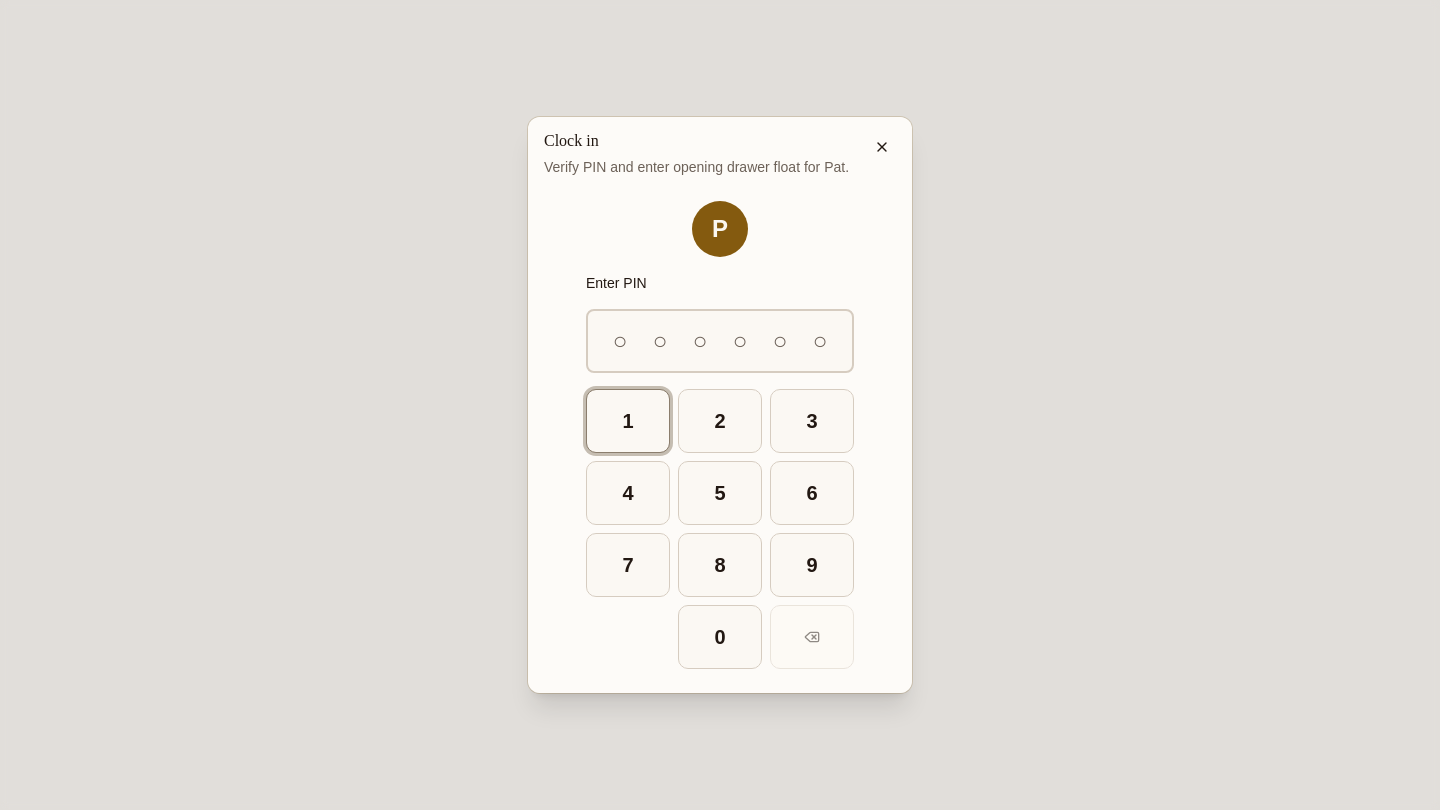
Test: ClockInModal › shows PIN error on wrong PIN
Step 1. Click the button "9" → (812, 565), box [770,533,854,597]
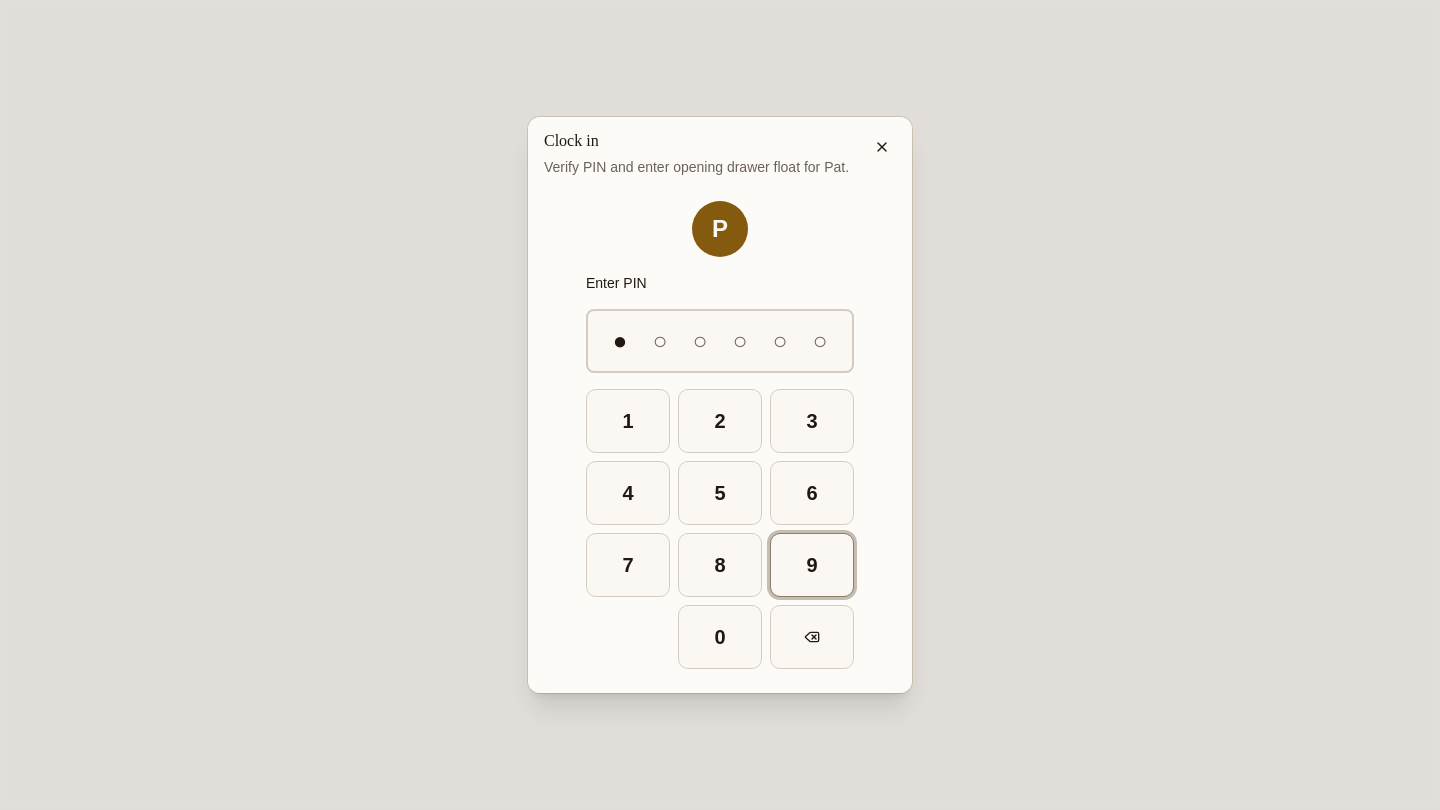
Step 2. Click the button "9" → (812, 565), box [770,533,854,597]
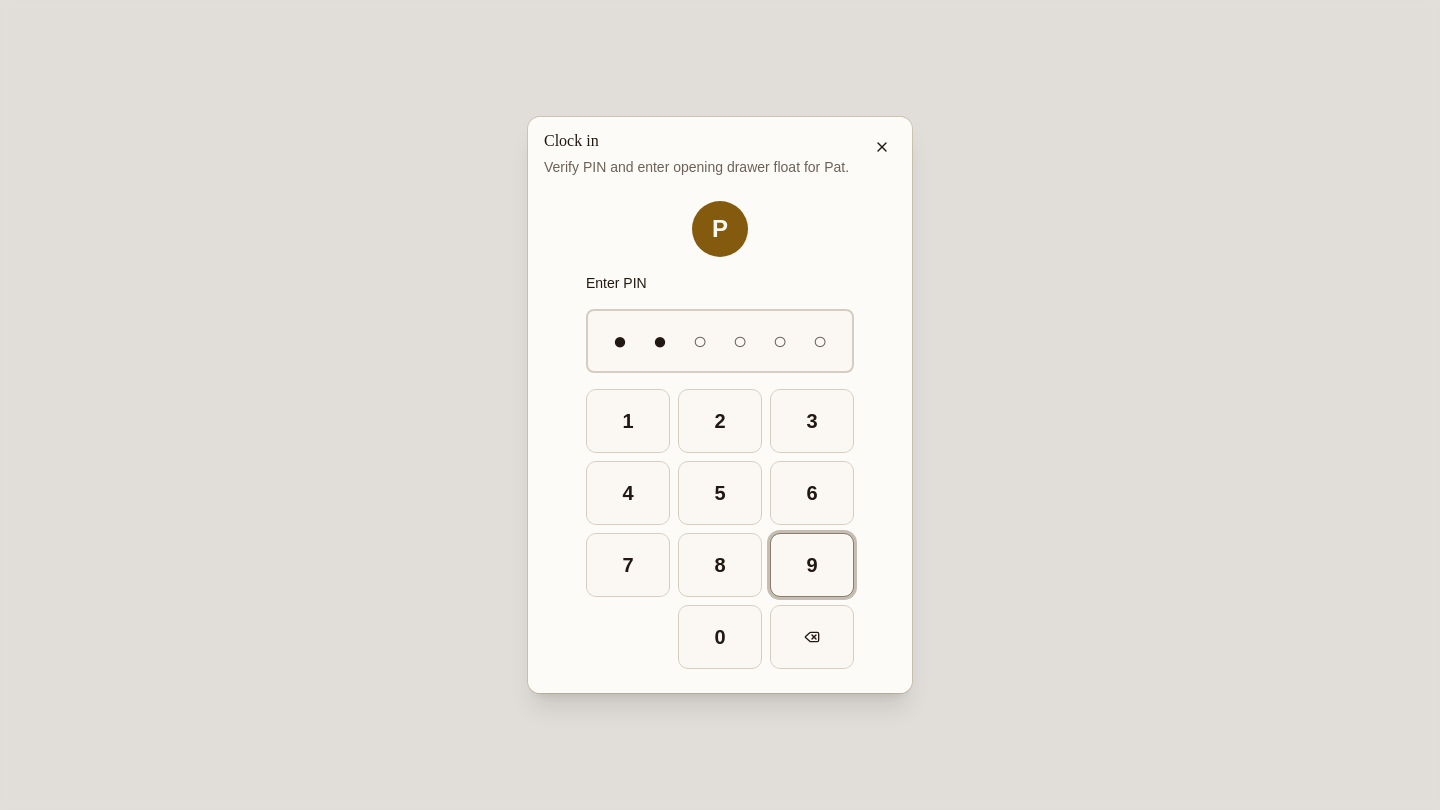
Step 3. Click the button "9" → (812, 565), box [770,533,854,597]
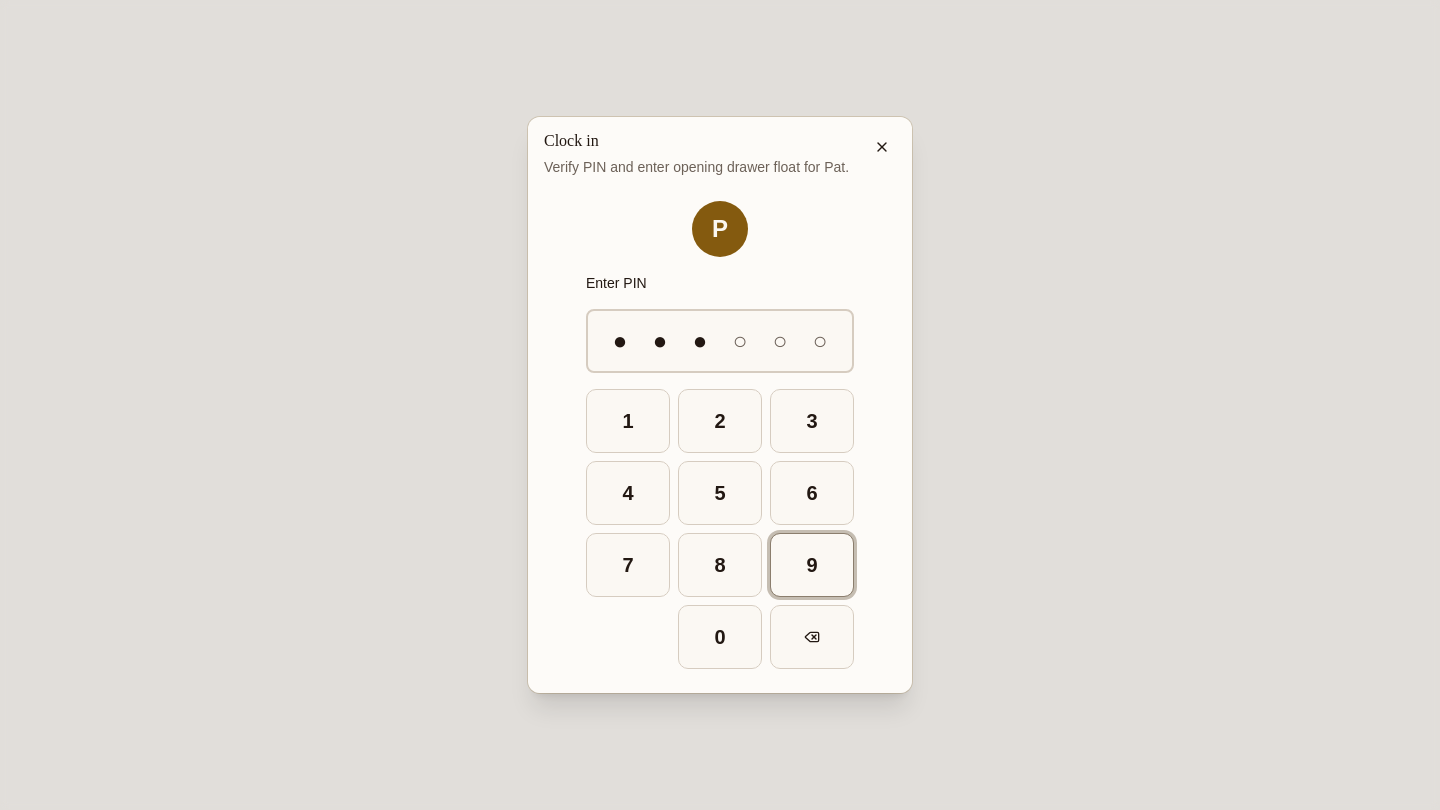
Step 4. Click the button "9" → (812, 565), box [770,533,854,597]
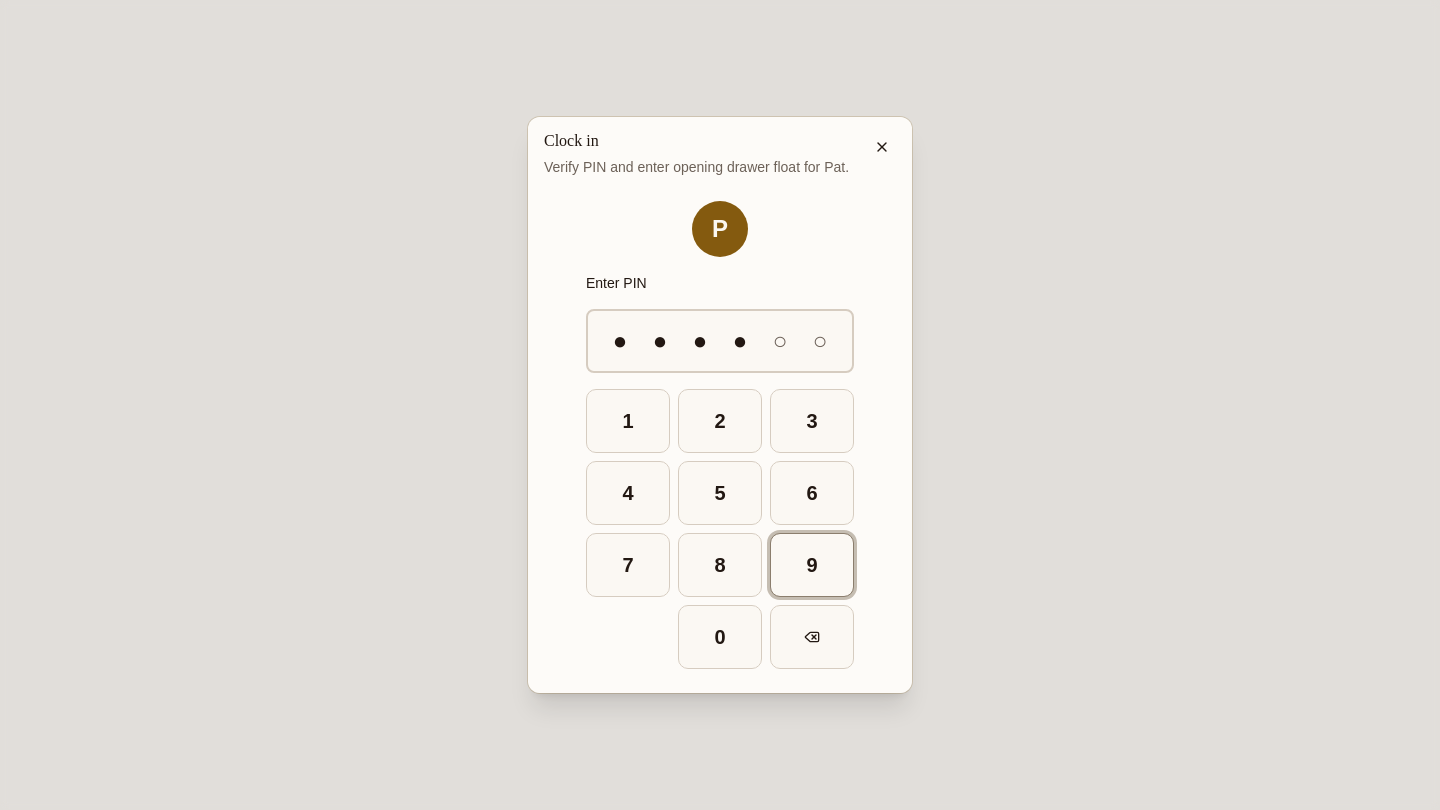
Step 5. Click the button "9" → (812, 565), box [770,533,854,597]
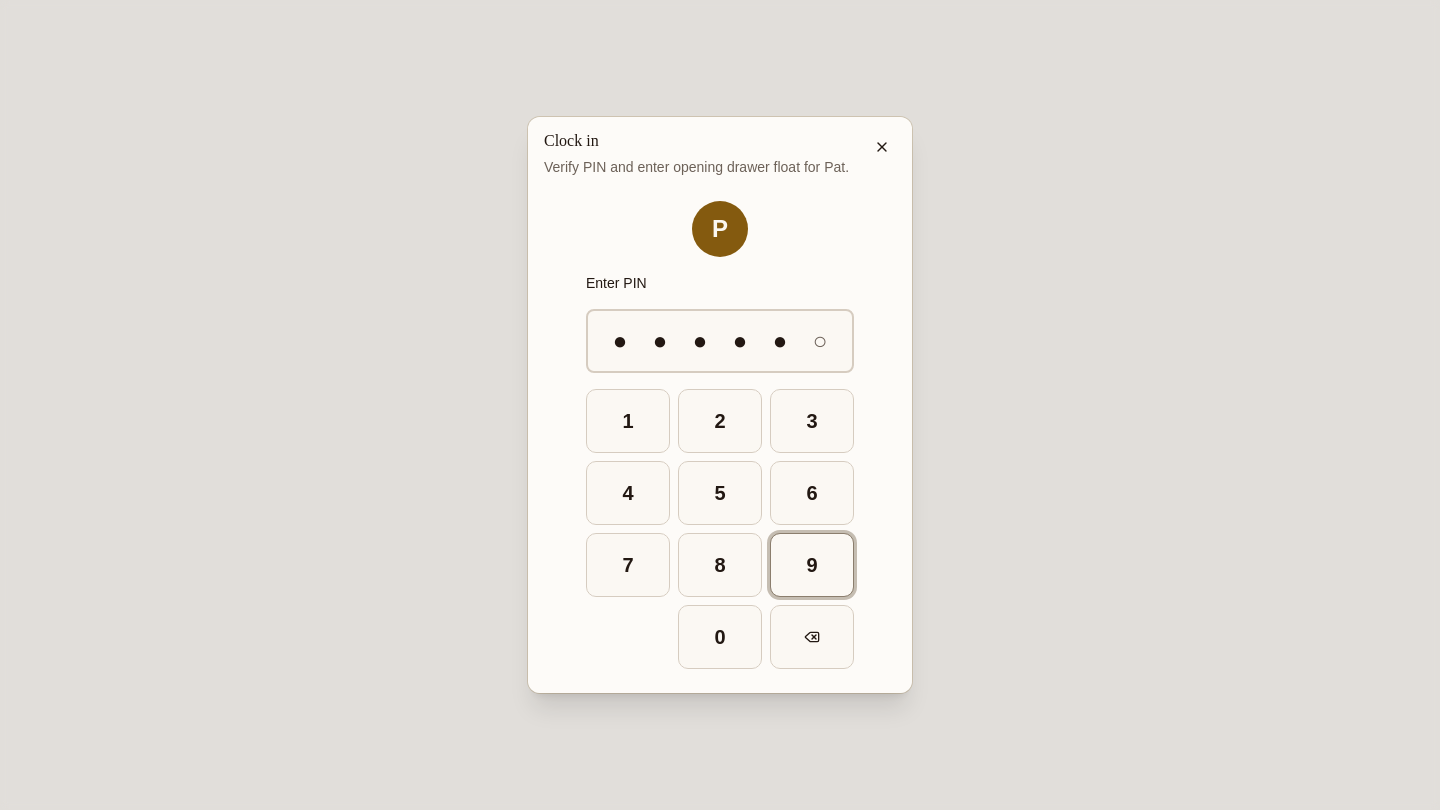
Step 6. Click the button "9" → (812, 565), box [770,533,854,597]
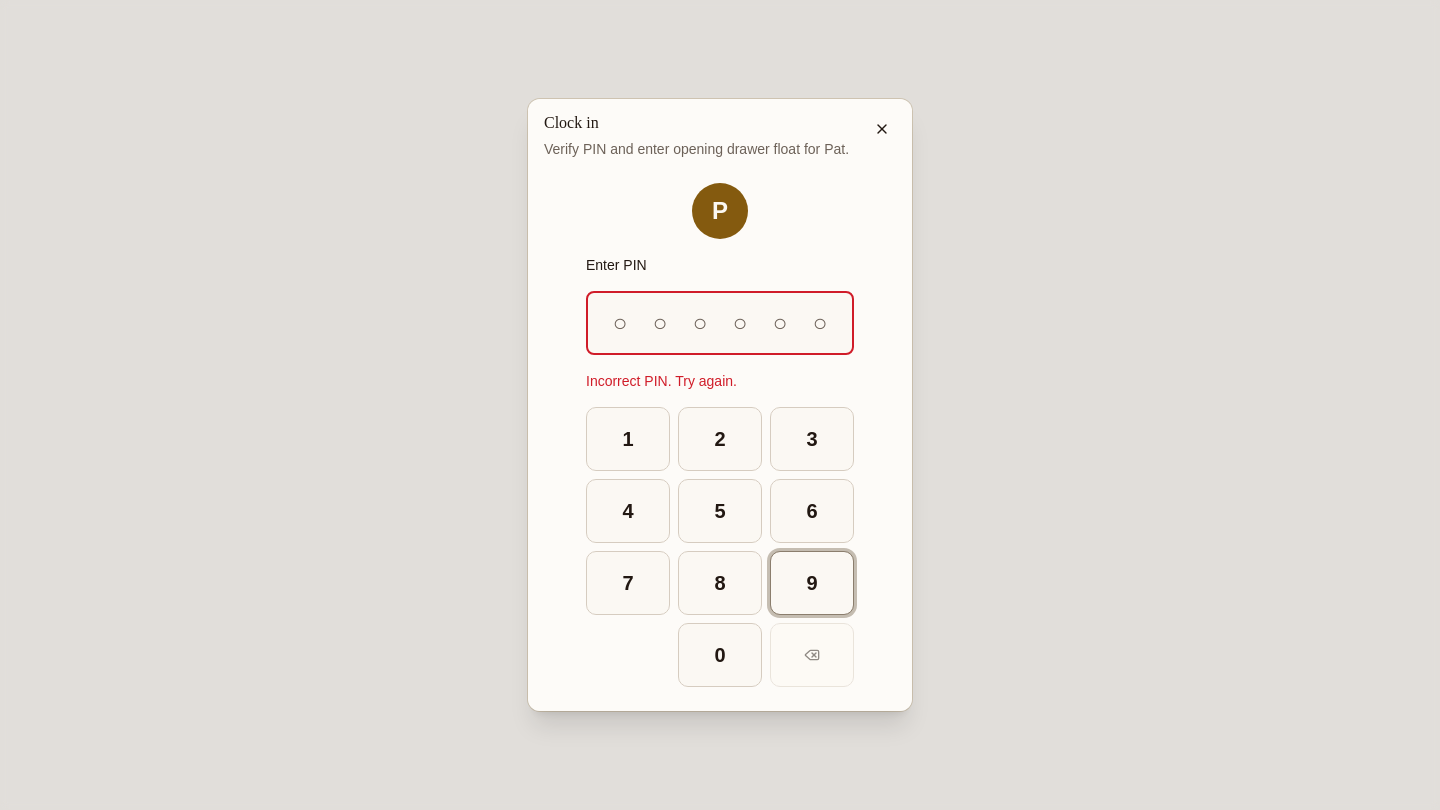
Check: the text "Incorrect PIN. Try again." is shown, box [586,373,737,389]
